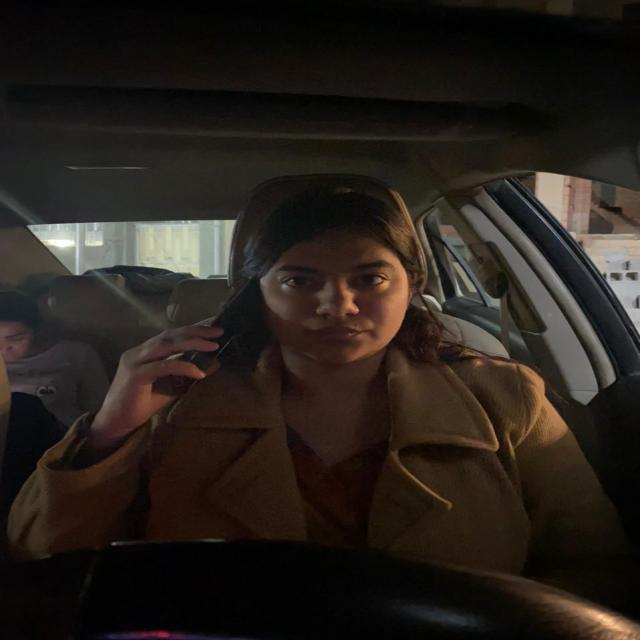mobile: (174, 275, 262, 390)
person: (241, 177, 423, 378), (4, 288, 52, 378)
